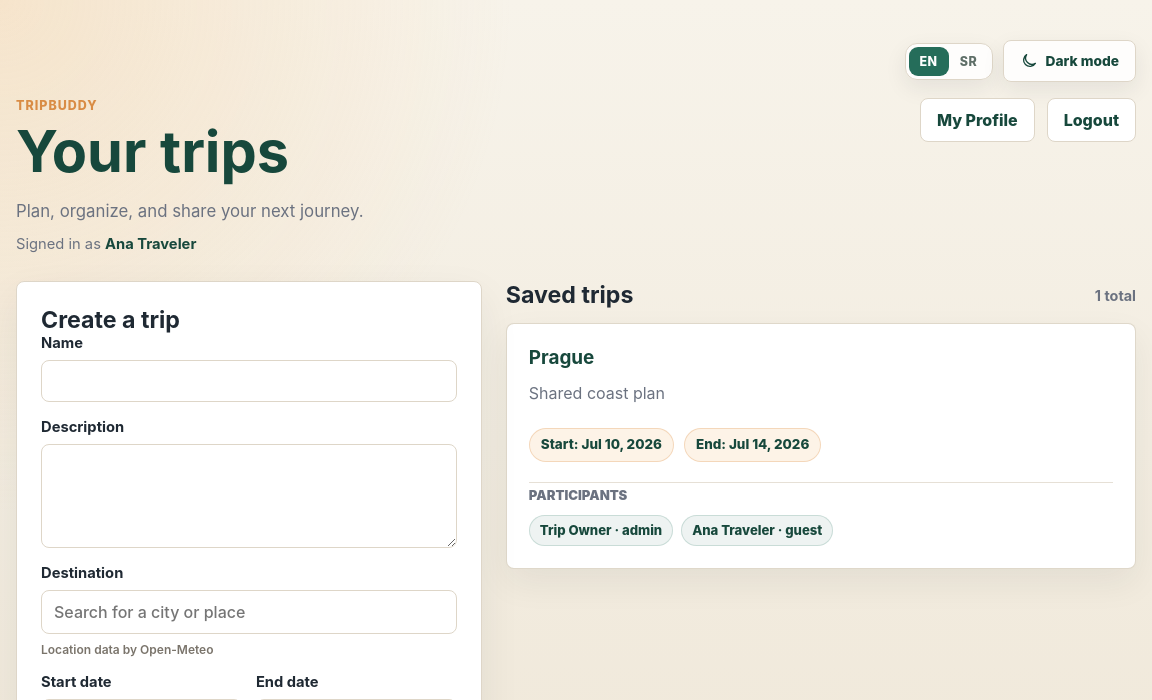
Test case: TripBuddy frontend › shows a guest the full trip page without write controls
The width and height of the screenshot is (1152, 700).
What coordinates should you click on to do the following:
click the button "Prague"
I would click on:
 (821, 446)
Its box is [506,323,1136,569].
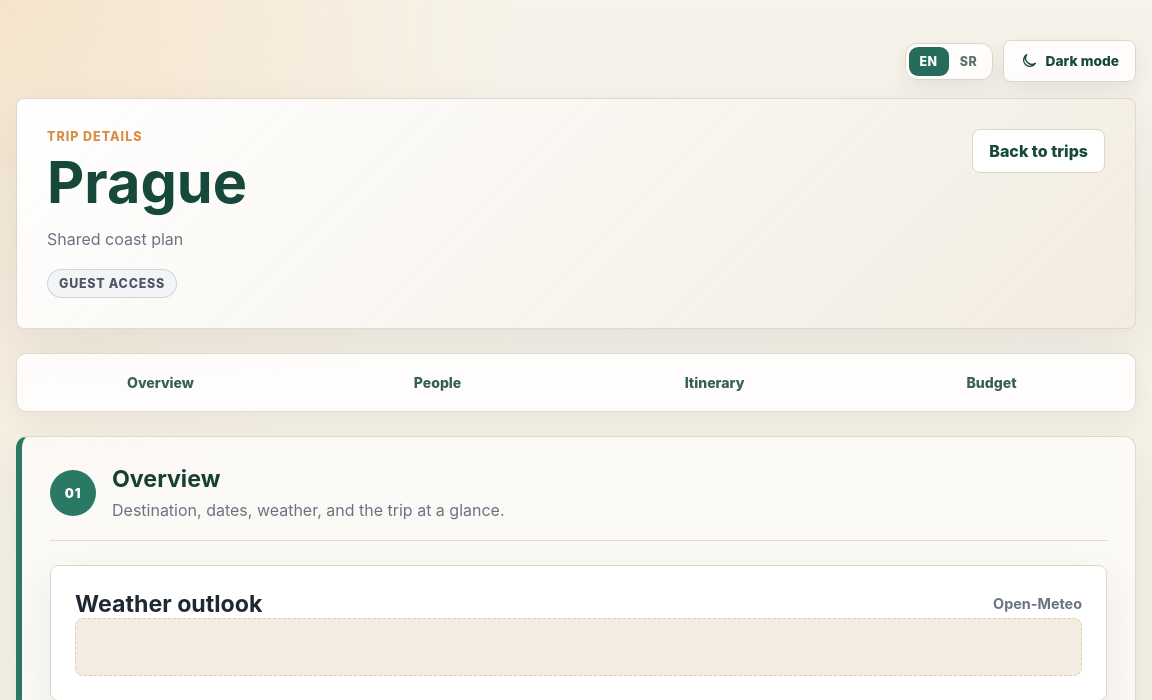
Check: the text "guest access" is shown, box [47,269,177,298]
